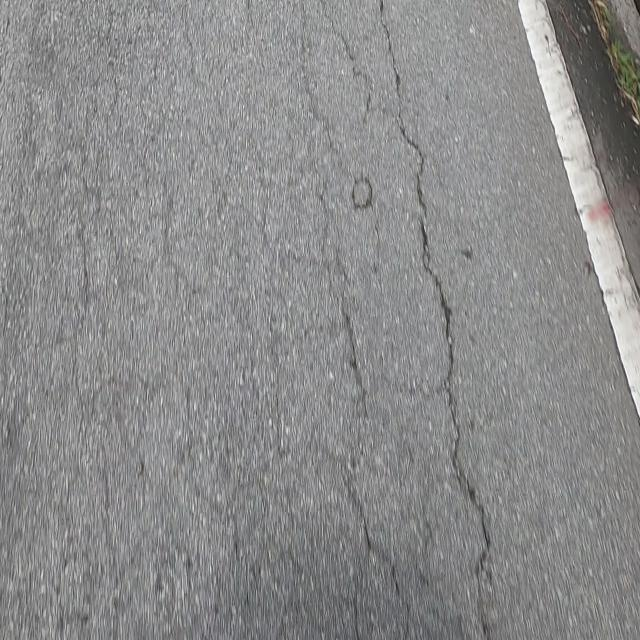Retak-Buaya: (9, 0, 406, 640)
Retak-Memanjang: (376, 0, 493, 640)
